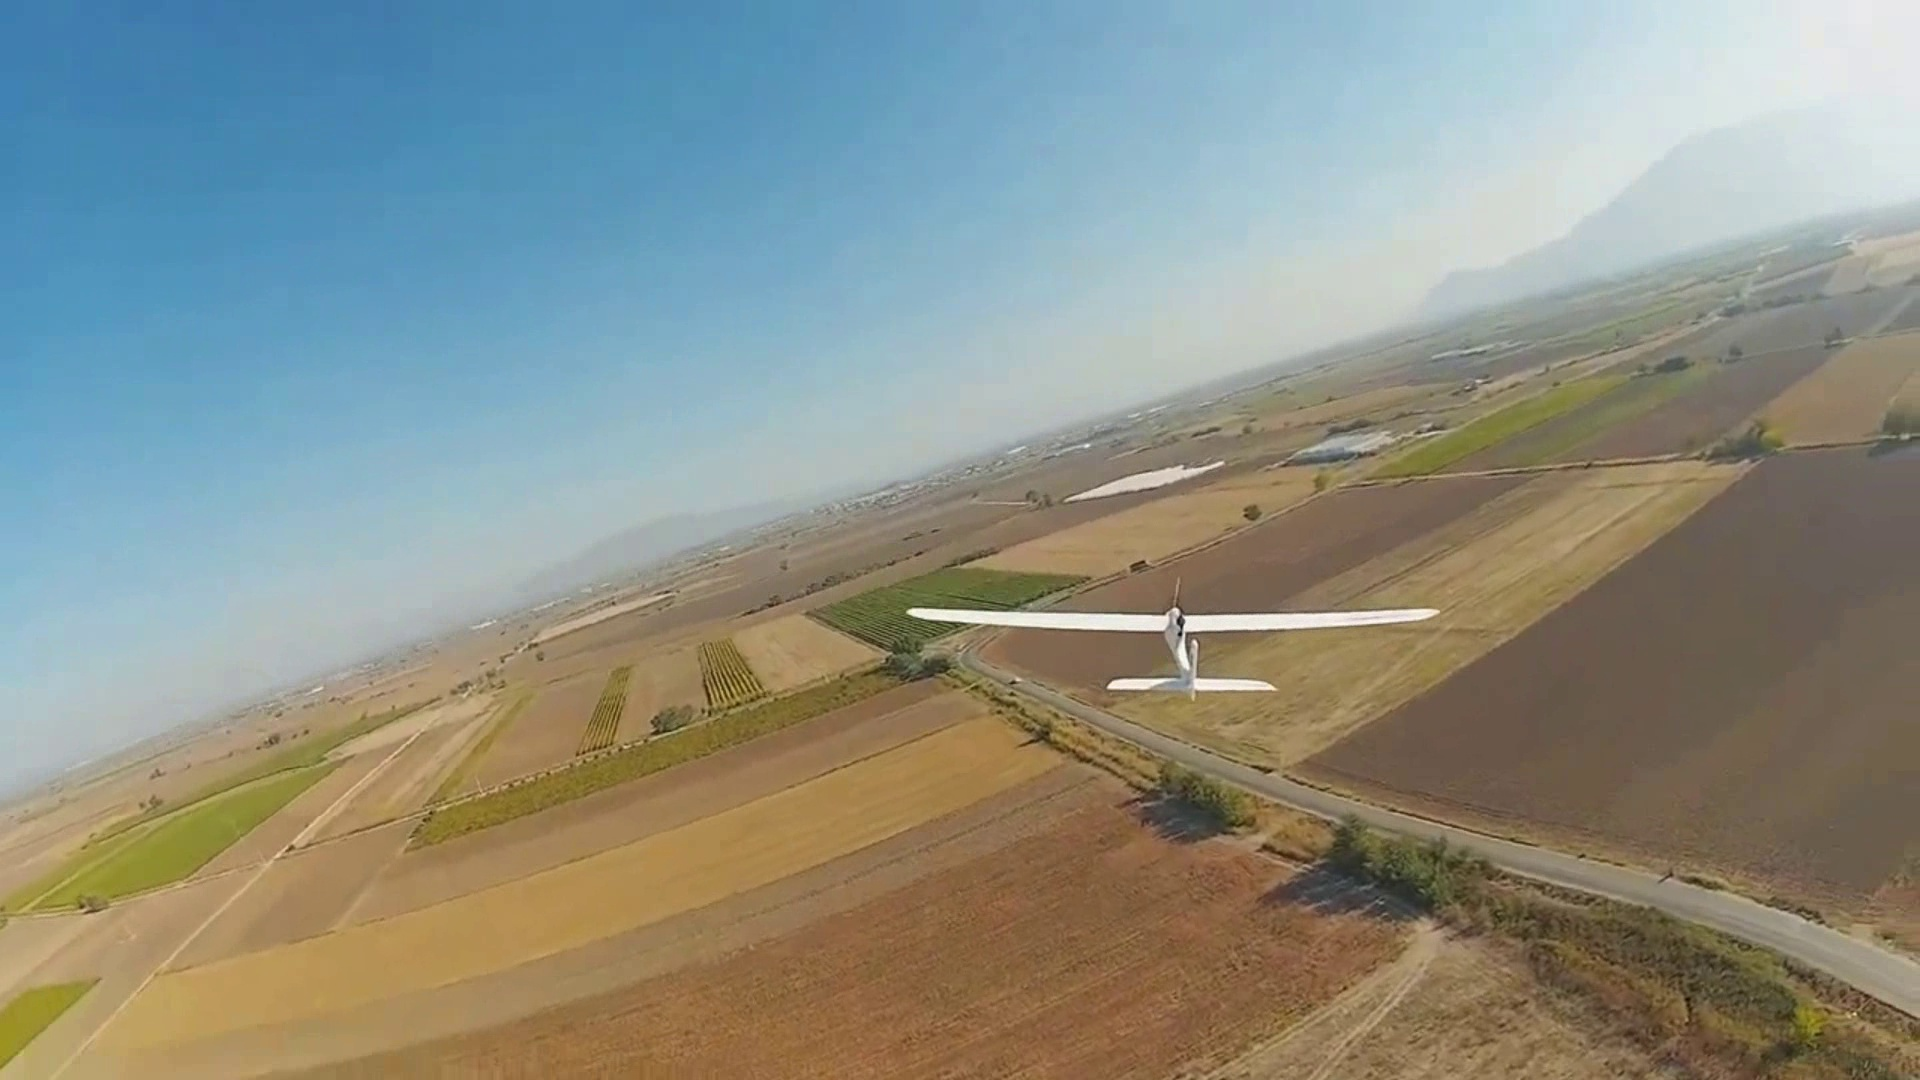airplane: (901, 622, 1917, 1033)
